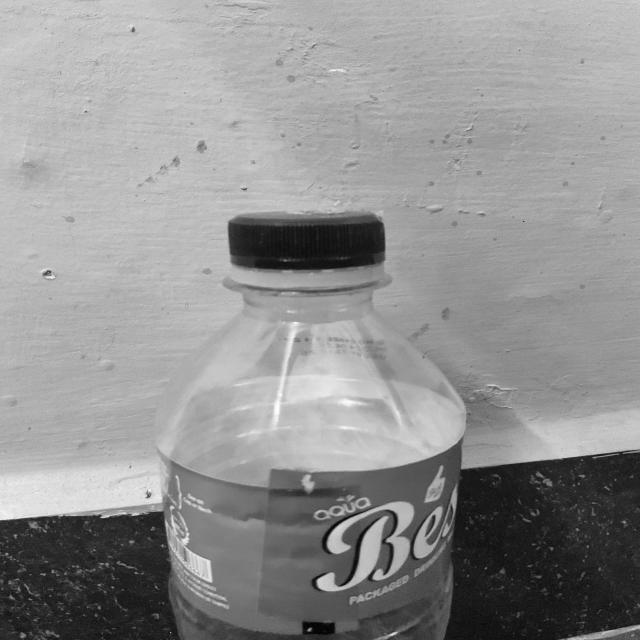Good-cap-Df0S: (220, 208, 392, 290)
